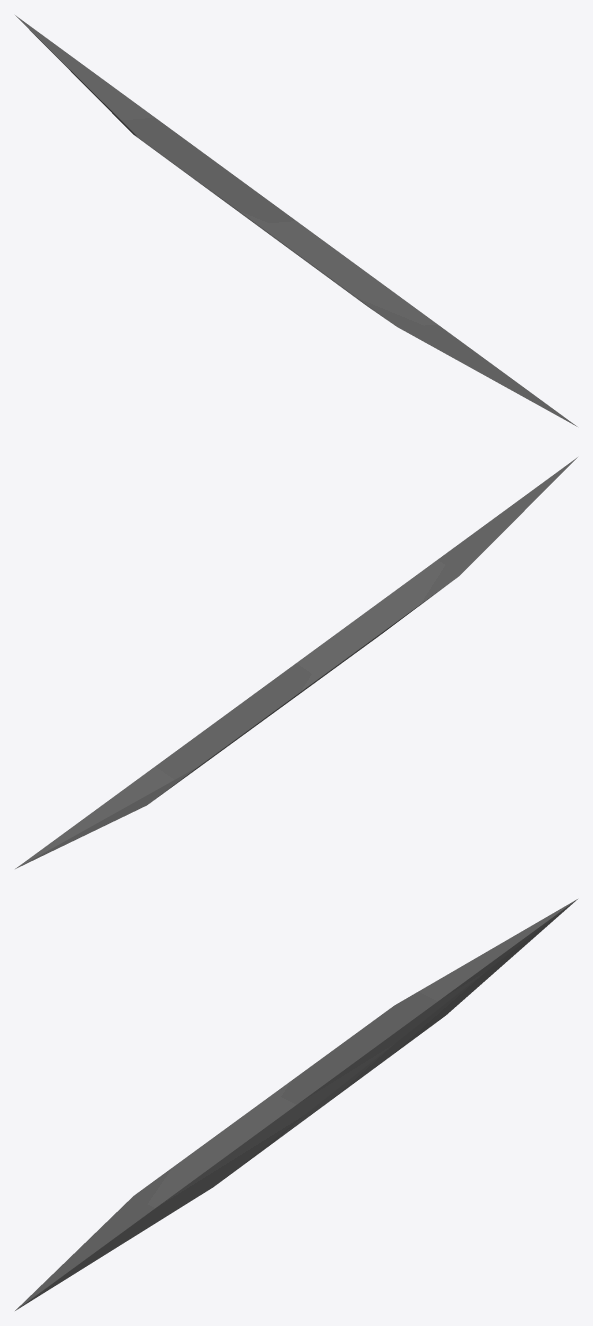
The model's file is peijian098-geode.glb.
3 views of the same model, one above another, from view 1: azimuth 30°, elevation 25°; view 2: azimuth 150°, elevation 25°; view 3: azimuth 330°, elevation 25° (orthographic).
Visible parts, largest first — view 1: Node; view 2: Node; view 3: Node.
Boxes of the visible parts, box(x1,y1,x2,y2) form: Node: box(15, 15, 577, 426); Node: box(15, 457, 577, 868); Node: box(15, 899, 577, 1310).
Size of the model in its own units: 0.0571 by 0.0483 by 1.8.
Materials: 1 (1 with a texture image).
